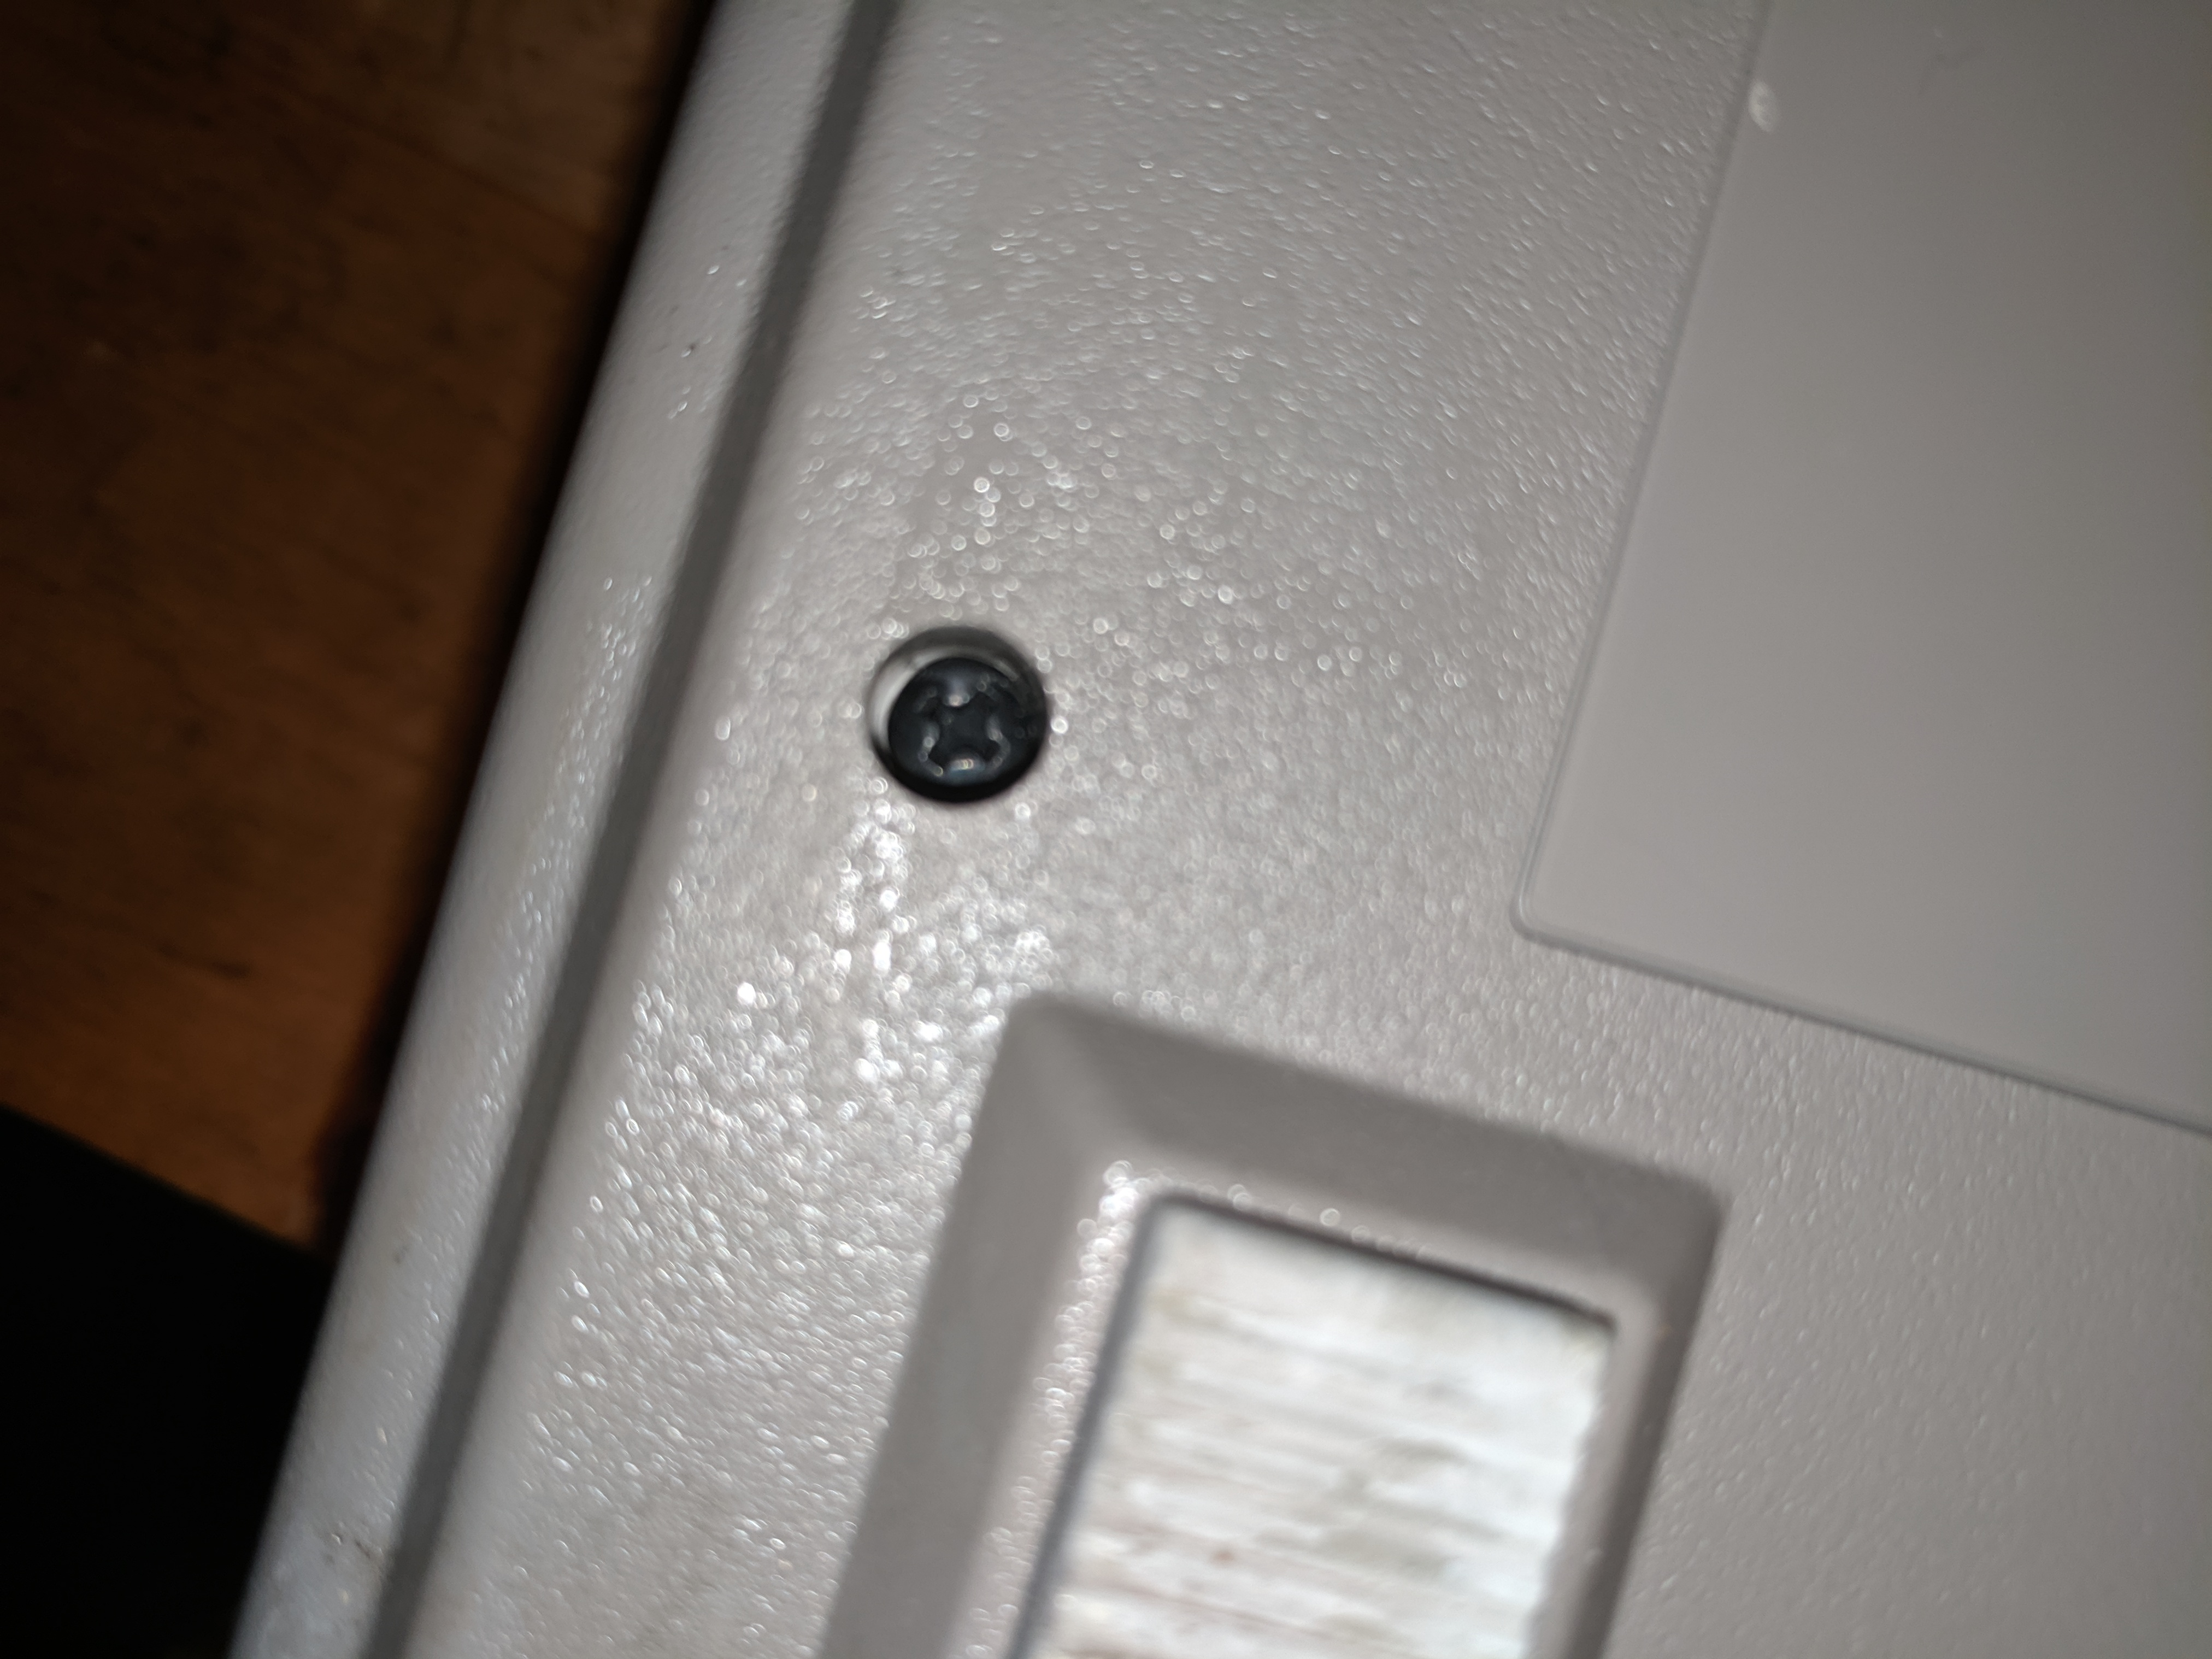cross_recessed_screw: (859, 634, 1052, 809)
